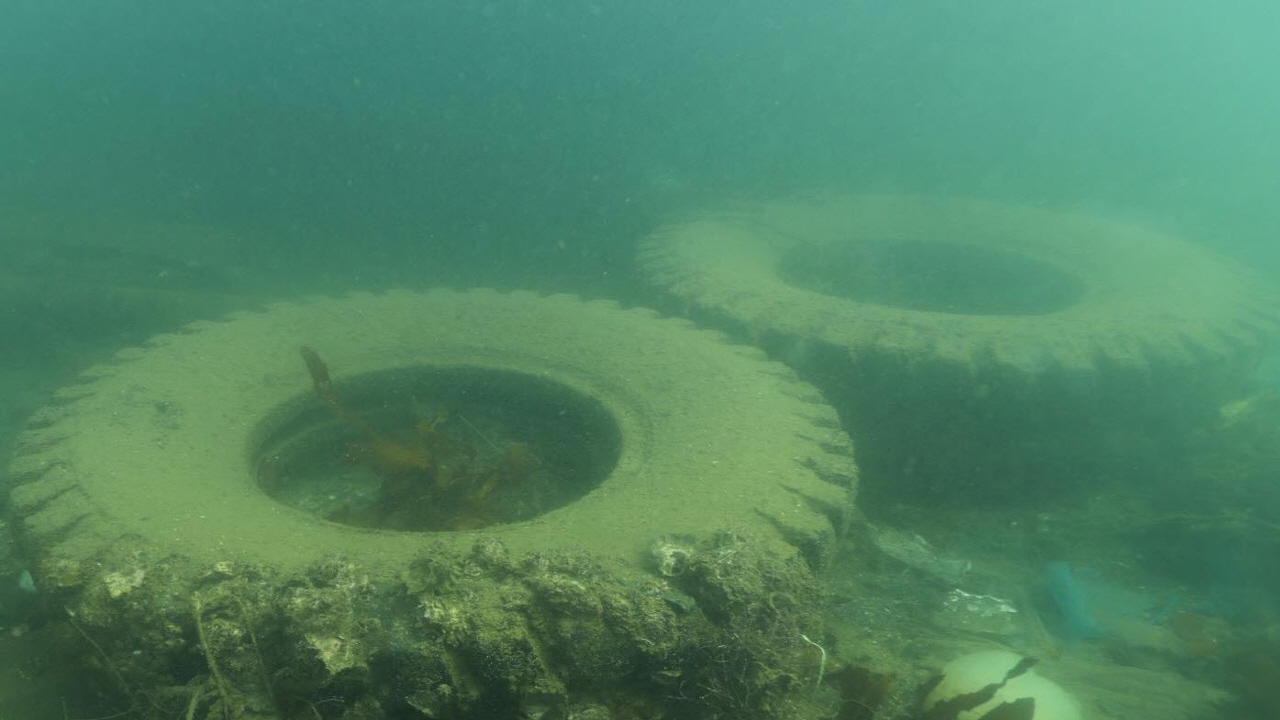tire: (6, 282, 864, 601), (634, 190, 1271, 501)
